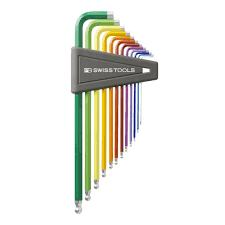wrench: (73, 9, 113, 213), (83, 18, 120, 201), (91, 25, 125, 188), (99, 29, 130, 176), (107, 34, 134, 168), (112, 38, 138, 164), (118, 42, 141, 157), (123, 45, 146, 150), (128, 47, 148, 148), (131, 50, 151, 142), (135, 52, 154, 132)
